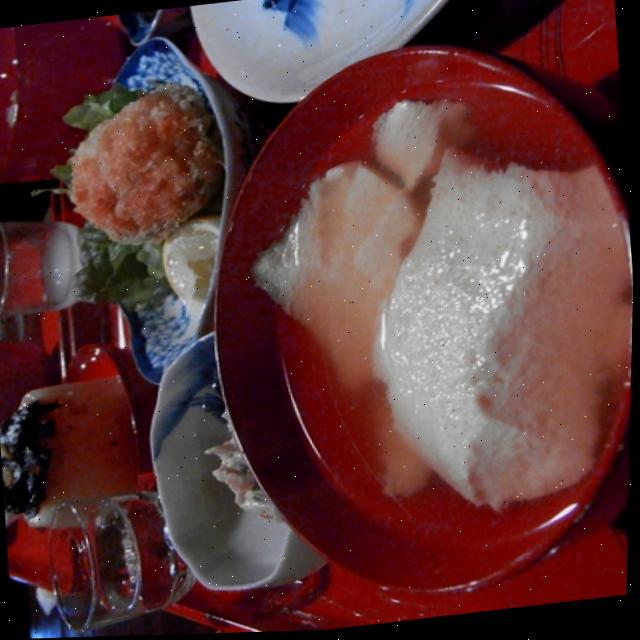汤锅炖物: (175, 3, 640, 611)
